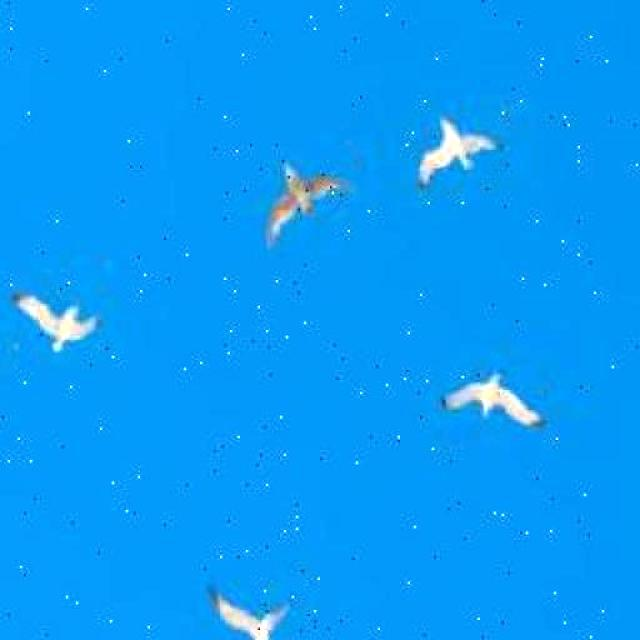airplane: (254, 144, 366, 250), (432, 364, 551, 448), (409, 105, 515, 199), (9, 268, 109, 359), (206, 568, 308, 640)
